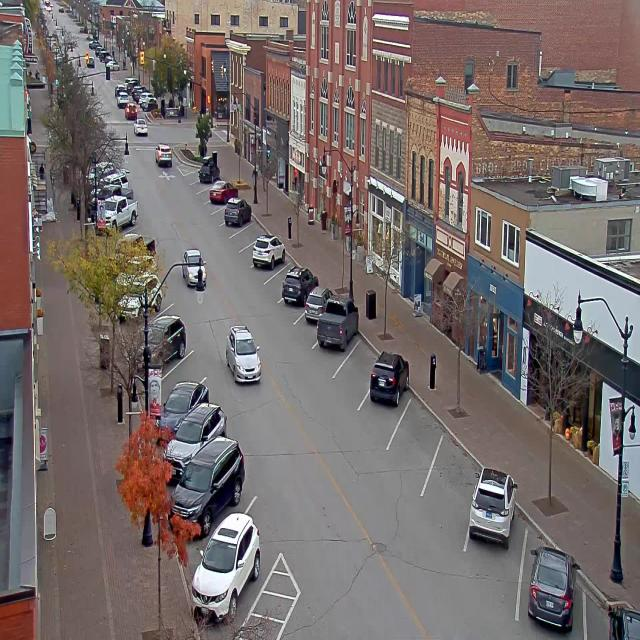available: (394, 389, 446, 467), (432, 438, 480, 516), (159, 342, 210, 389), (341, 333, 379, 391), (266, 260, 291, 298), (240, 212, 263, 245), (210, 197, 228, 231), (185, 167, 201, 185), (197, 185, 210, 206)
occupied: (186, 509, 272, 608), (169, 435, 245, 538), (527, 545, 579, 631), (468, 466, 517, 547), (173, 396, 231, 454), (156, 379, 209, 441), (588, 588, 639, 639), (316, 296, 358, 352), (368, 350, 409, 406), (142, 313, 187, 363), (282, 264, 318, 305), (252, 232, 285, 269), (304, 283, 330, 327), (224, 196, 251, 227), (210, 180, 237, 202), (197, 158, 220, 183)
